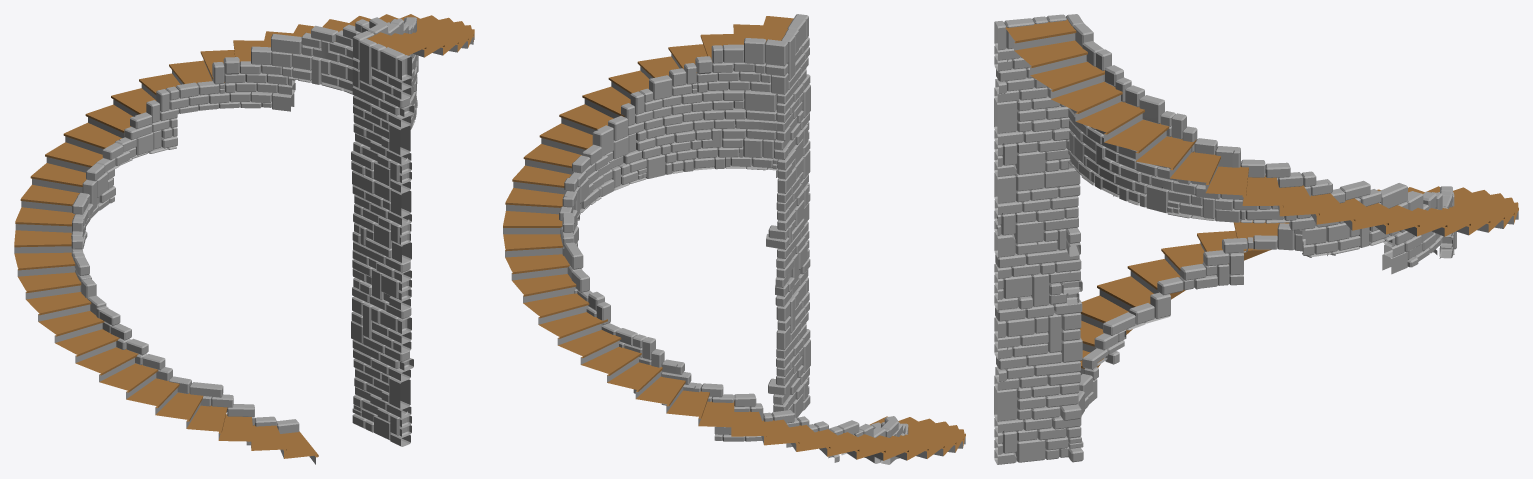
File: escalera.fbx
3 views of the same model, side by side, from view 1: azimuth 30°, elevation 25°; view 2: azimuth 150°, elevation 25°; view 3: azimuth 270°, elevation 25° (orthographic). The views are drawn at different scales.
Parts seen in each view (by area): view 1: pCube3465; view 2: pCube3465; view 3: pCube3465.
Boxes of the visible parts, x1,y1,x2,y2 form: pCube3465: (14,14,474,464); pCube3465: (503,14,965,464); pCube3465: (994,14,1518,464).
Bounding box in the file's own units: 18.07 × 16.79 × 18.15.
